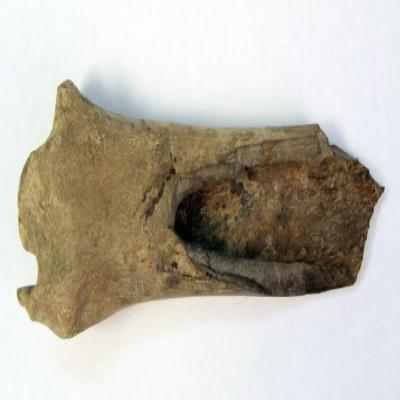natural_science_collection: (16, 80, 384, 342)
